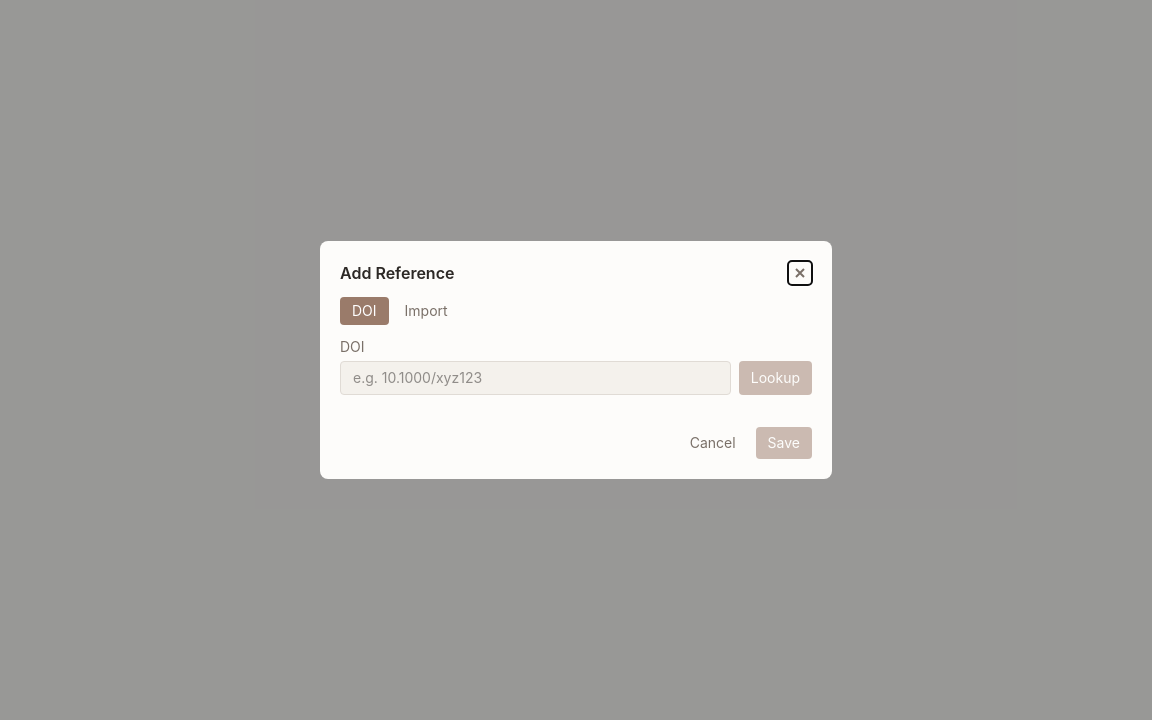
Test: AddReferenceDialog › switching to Import tab shows file picker UI
Click the button with test id "add-reference-mode-import".
click(426, 311)  # box [393,297,460,325]
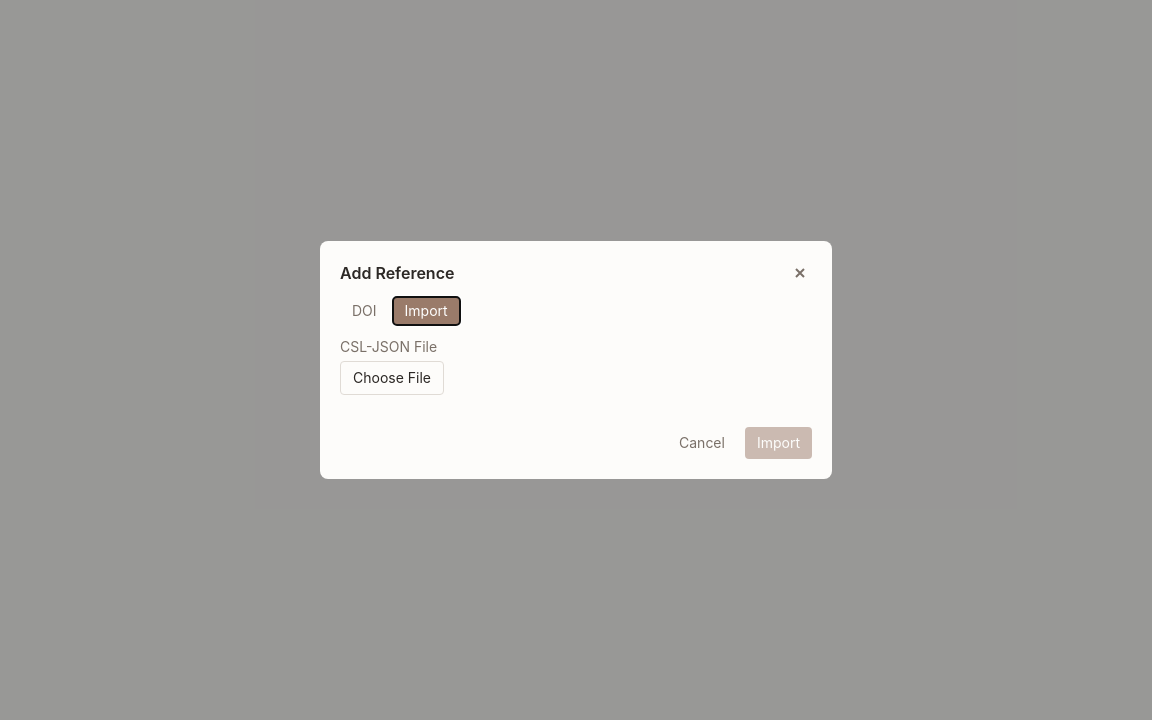
Result: the button with test id "add-reference-import-file-btn" is shown at [340,361,444,395]
Result: the field with test id "add-reference-doi-input" is gone
